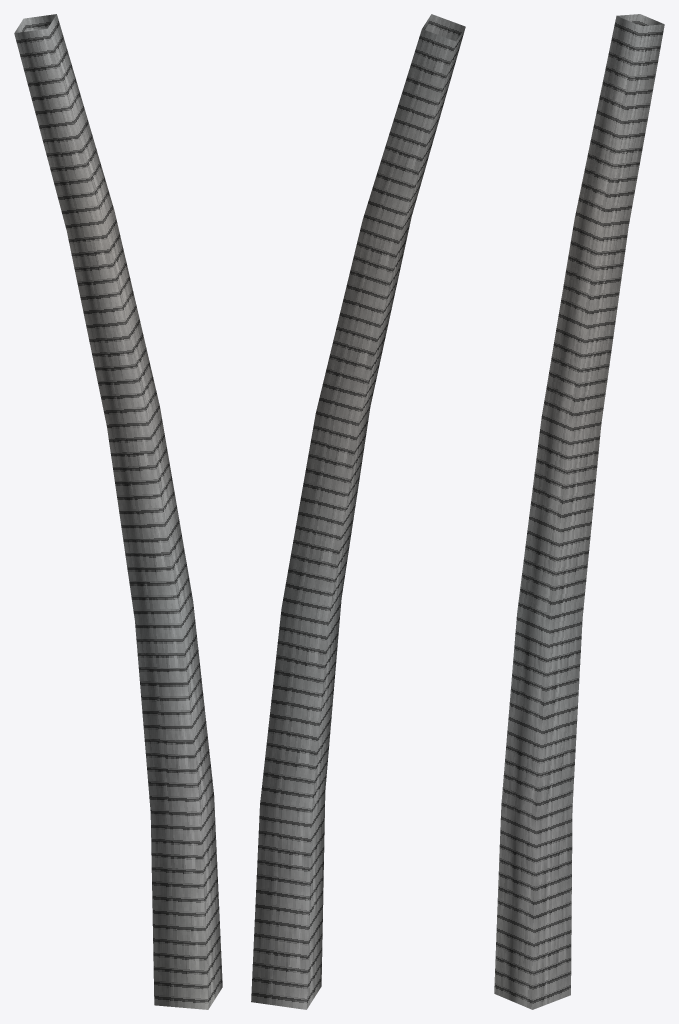
File: palm_bark_l2.gltf
The picture shows the model from 3 angles, left to right: view 1: azimuth 30°, elevation 25°; view 2: azimuth 210°, elevation 25°; view 3: azimuth 270°, elevation 25°; orthographic projection. The views are drawn at different scales.
Visible parts, largest first — view 1: palm_bark_l2; view 2: palm_bark_l2; view 3: palm_bark_l2.
Boxes of the visible parts, x1,y1,x2,y2 form: palm_bark_l2: (14, 14, 222, 1009); palm_bark_l2: (251, 14, 465, 1009); palm_bark_l2: (494, 14, 664, 1009).
Size of the model in its own units: 1.34 by 8.04 by 1.33.
1 material, 1 textured.
